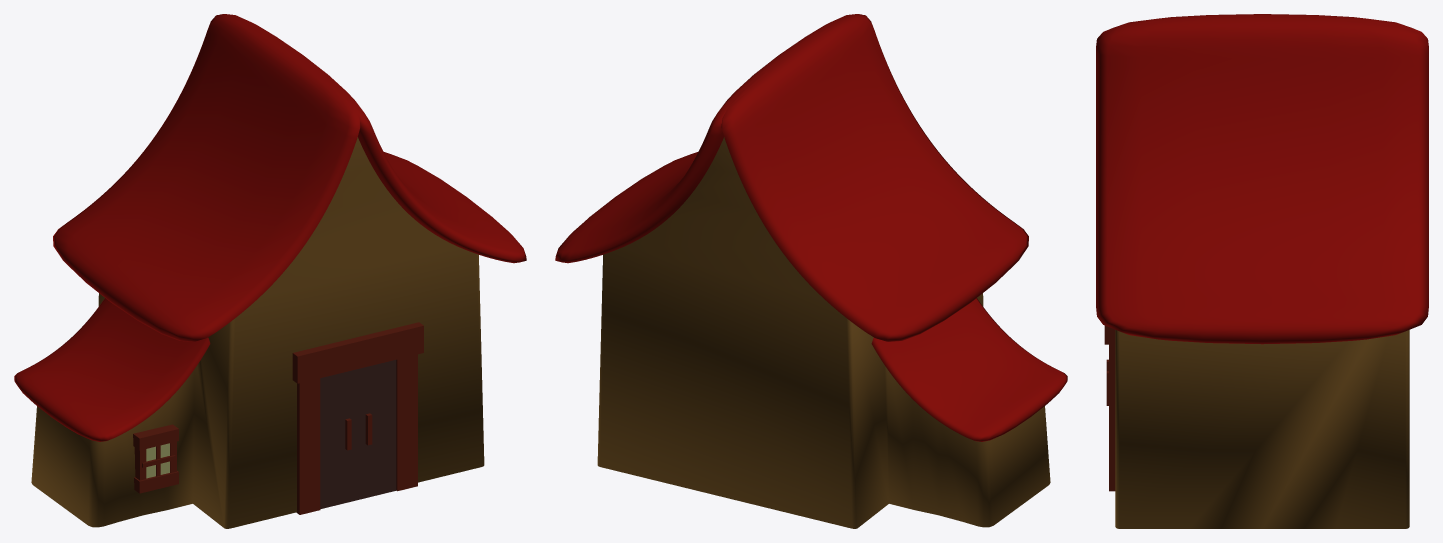
The model's file is NewHouse.glb.
3 renders of one model, left to right at view 1: azimuth 30°, elevation 25°; view 2: azimuth 150°, elevation 25°; view 3: azimuth 270°, elevation 25°, orthographic. The views are drawn at different scales.
Visible parts, largest first — view 1: Cube, Cube.001, Cube.003, Cube.006, Cube.005, Cube.004, Cube.011; view 2: Cube, Cube.001, Cube.003; view 3: Cube.001, Cube, Cube.005.
Boxes of the visible parts, x1,y1,x2,y2 form: Cube: (31, 137, 484, 528); Cube.001: (53, 14, 526, 341); Cube.003: (14, 298, 210, 441); Cube.006: (320, 360, 396, 509); Cube.005: (296, 354, 417, 514); Cube.004: (292, 322, 423, 383); Cube.011: (133, 424, 178, 493); Cube: (597, 137, 1050, 528); Cube.001: (555, 14, 1028, 341); Cube.003: (871, 298, 1067, 441); Cube.001: (1096, 14, 1428, 344); Cube: (1115, 330, 1409, 528); Cube.005: (1109, 344, 1115, 491).
Bounding box in the file's own units: 5.21 × 4.68 × 3.18.
